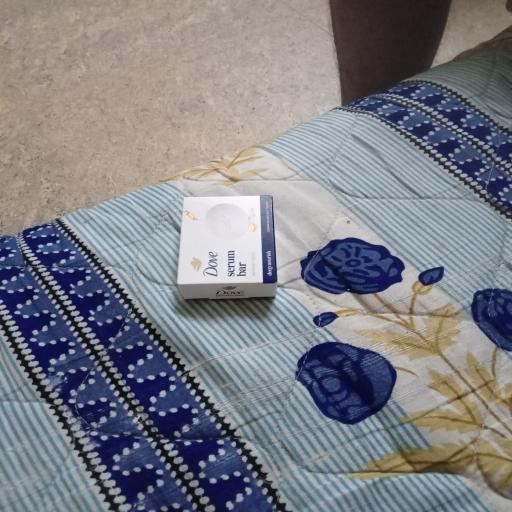Dove`1: (177, 189, 285, 303)
